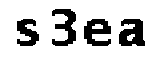3: (49, 7, 77, 49)
a: (115, 17, 148, 51)
e: (79, 18, 112, 50)
s: (15, 18, 40, 48)
